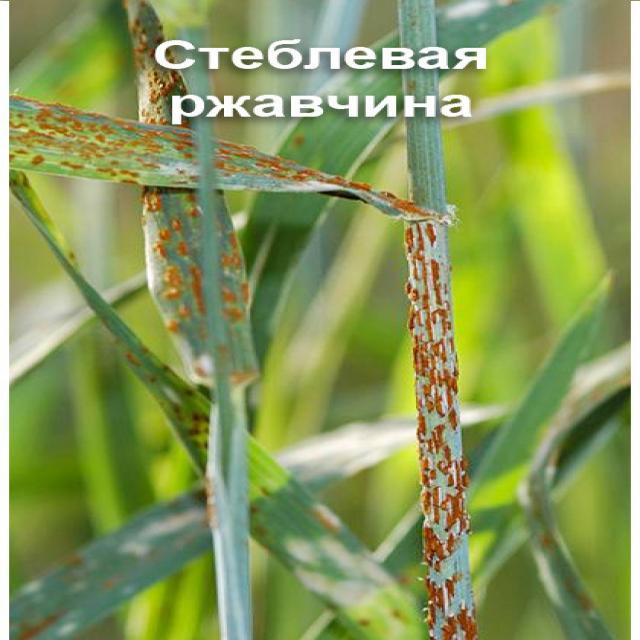wheat-stemrust: (215, 139, 477, 640), (9, 33, 212, 384)
